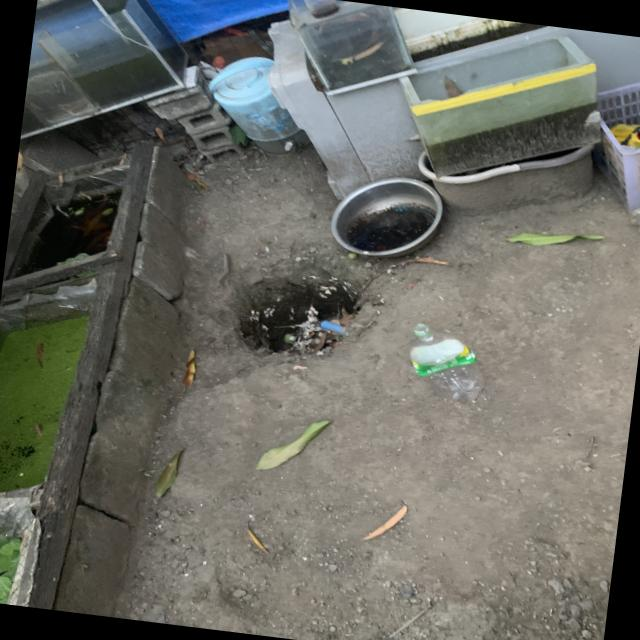Bottle: (409, 323, 483, 401)
